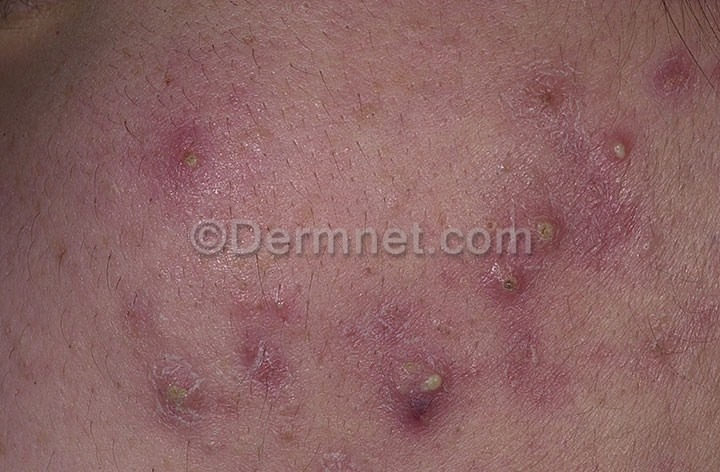Acne: (62, 54, 691, 430)
